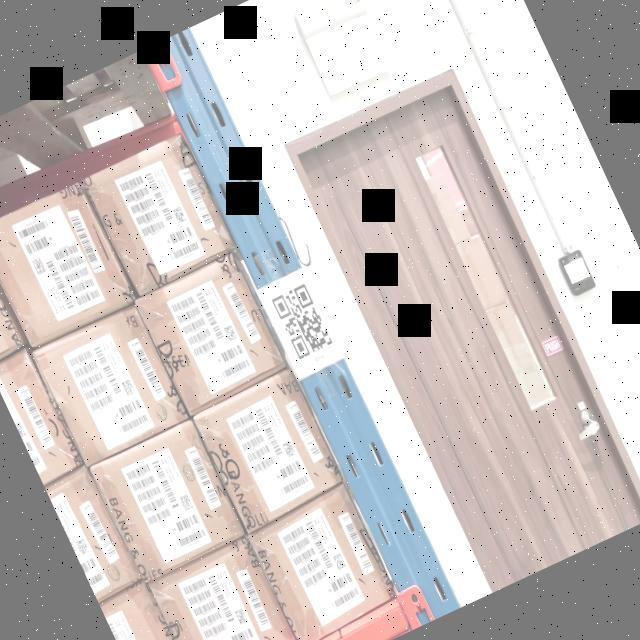box: (90, 418, 250, 586), (32, 303, 190, 467), (192, 366, 346, 534), (82, 130, 236, 297), (134, 253, 288, 414), (0, 178, 137, 352), (247, 486, 398, 640), (146, 537, 298, 640), (46, 468, 142, 604), (97, 577, 198, 640), (0, 226, 24, 361)
